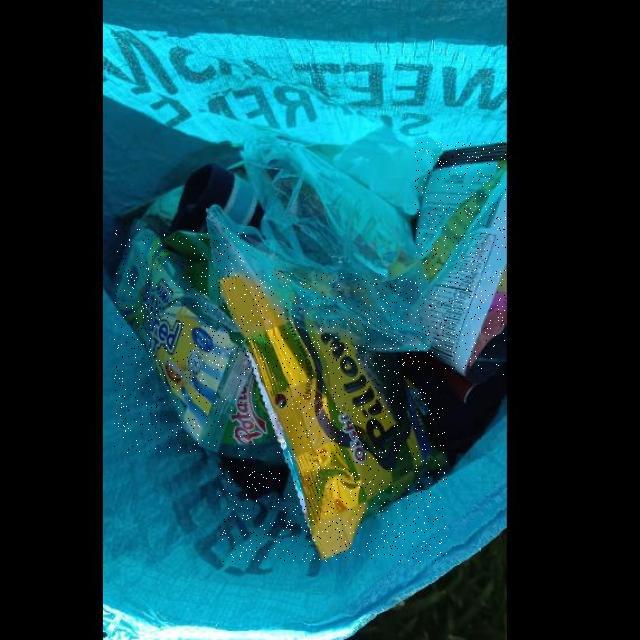wrapper: (218, 273, 447, 562), (114, 229, 250, 453), (415, 143, 506, 378), (217, 371, 287, 468)
